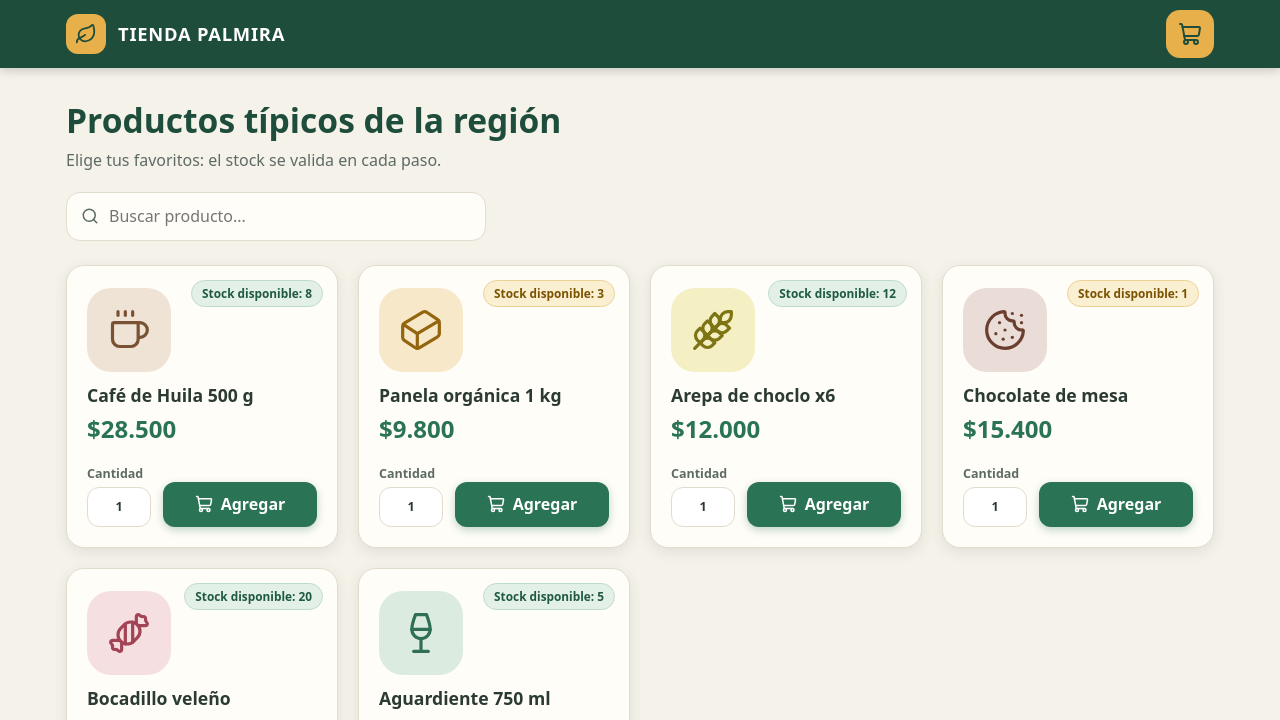
Test: Reto carrito de compras - casos de prueba del instructor › el panel del carrito abre y se cierra
This screenshot has width=1280, height=720.
Click the button named "abrir carrito".
click(1190, 34)  # box [1166, 10, 1214, 58]
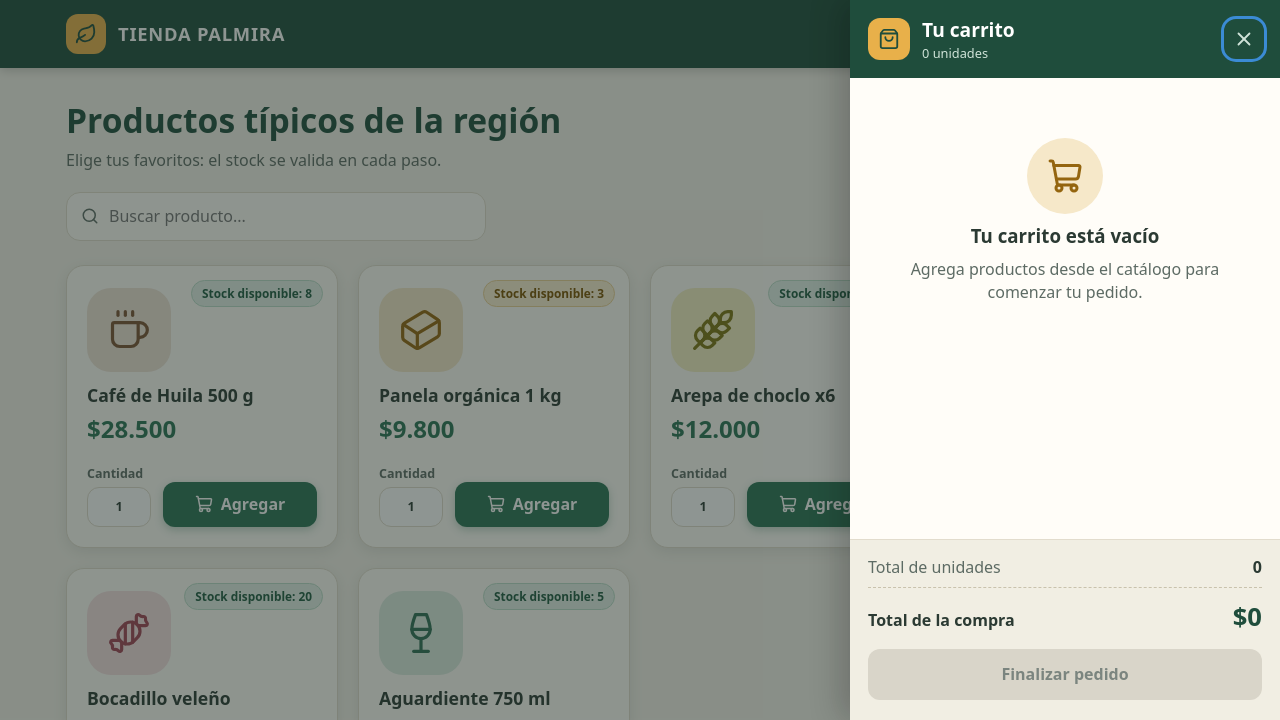
Check: the dialog is shown, box [850, 0, 1279, 719]
Click the button named "cerrar carrito".
click(1244, 39)  # box [1226, 21, 1262, 57]
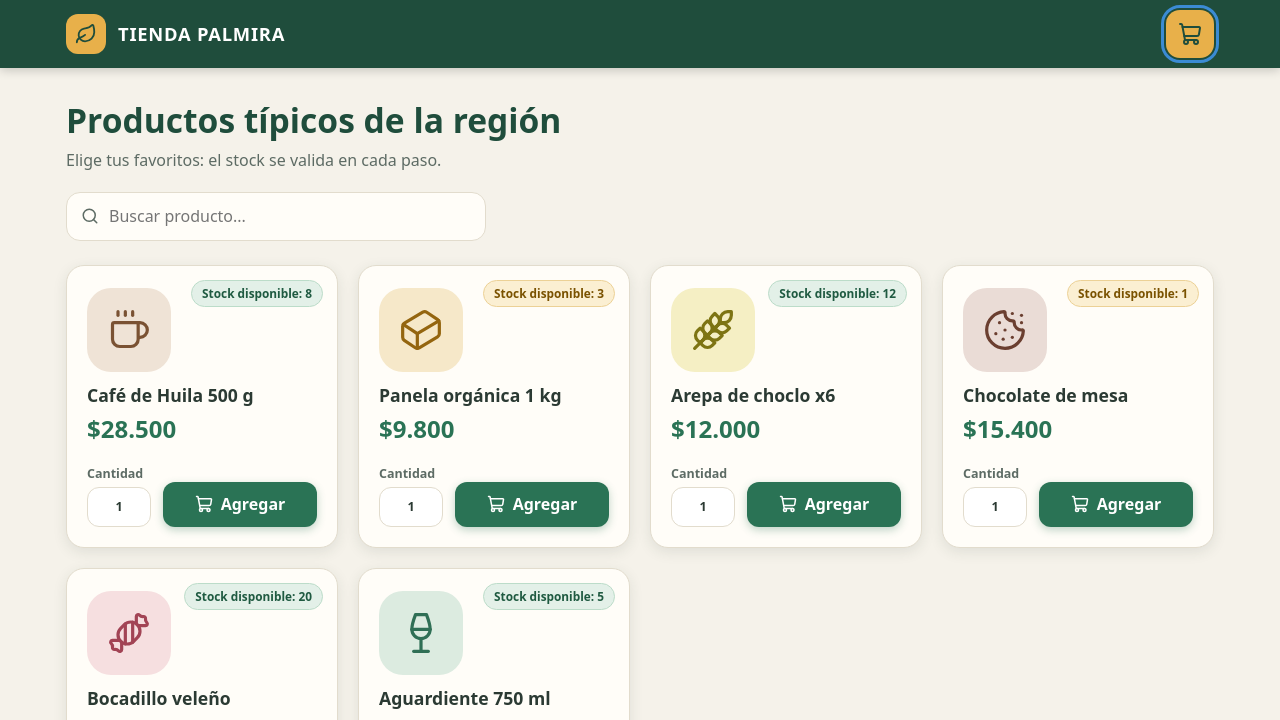
Check: the dialog is gone
